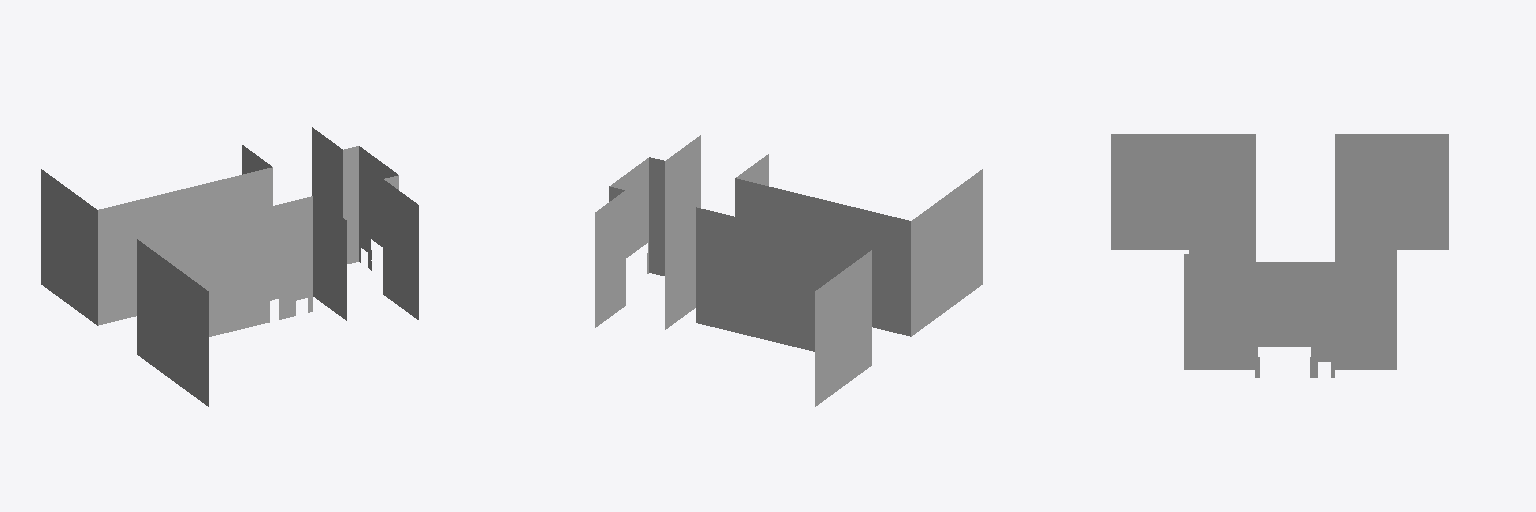
File: AlleyWayOutofBounds-1.obj
The picture shows the model from 3 angles: view 1: azimuth 30°, elevation 25°; view 2: azimuth 150°, elevation 25°; view 3: azimuth 270°, elevation 25°; orthographic projection.
Visible parts, largest first — view 1: Cube.003_Cube.000; view 2: Cube.003_Cube.000; view 3: Cube.003_Cube.000.
Boxes of the visible parts, x1=… form: Cube.003_Cube.000: x1=41, y1=127, x2=418, y2=406; Cube.003_Cube.000: x1=595, y1=135, x2=982, y2=406; Cube.003_Cube.000: x1=1111, y1=134, x2=1448, y2=377.
Size of the model in its own units: 16.3 by 6.89 by 18.18.